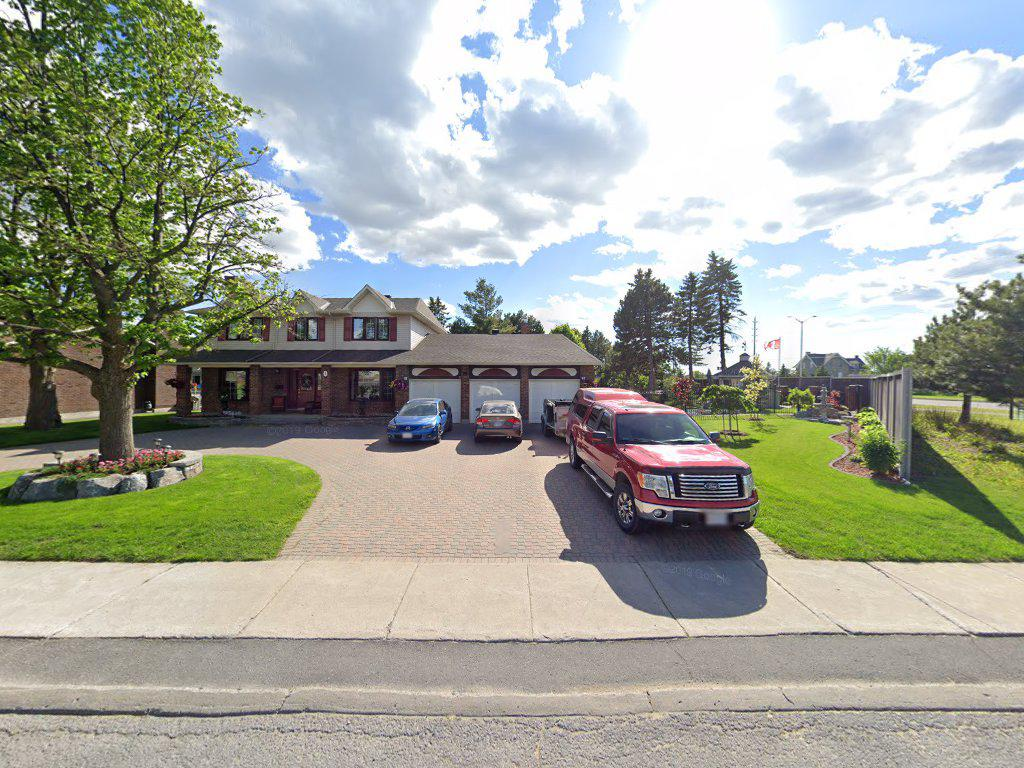trunk: (96, 314, 136, 471)
